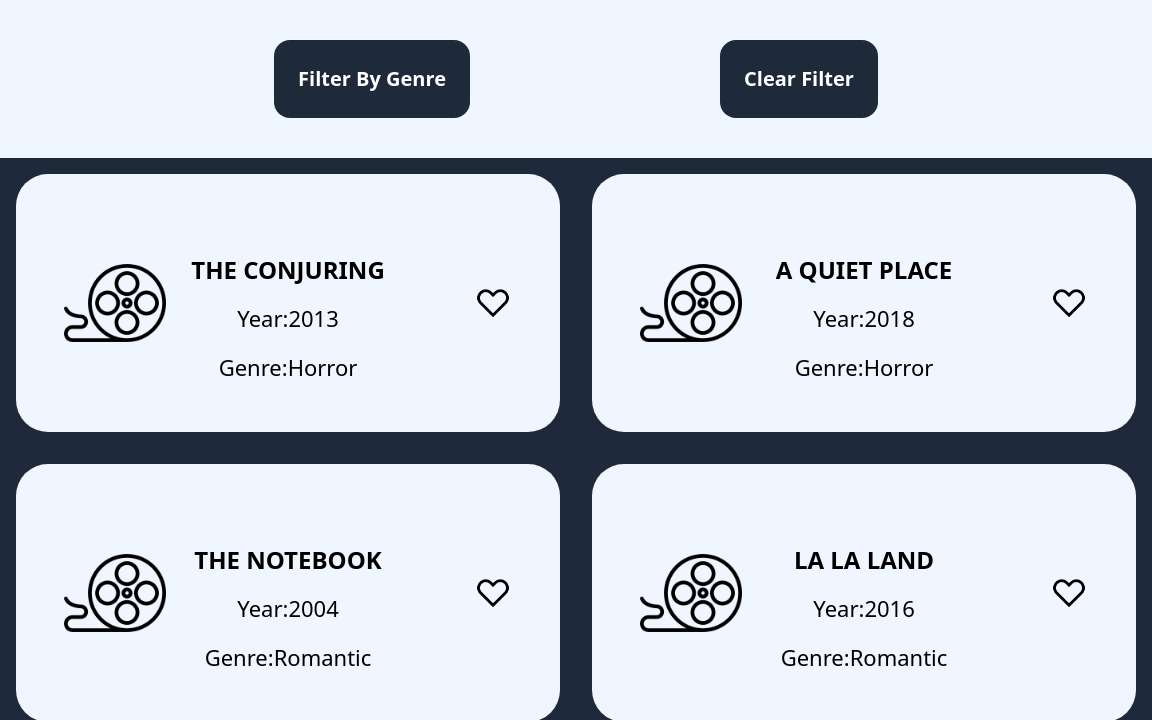
Scenario: Test the back button functionality when particular genre is selected
Expected: the button "Clear Filter" is shown, [720,40,878,118]
Click the button "Filter By Genre".
click(372, 79)  # box [274,40,470,118]
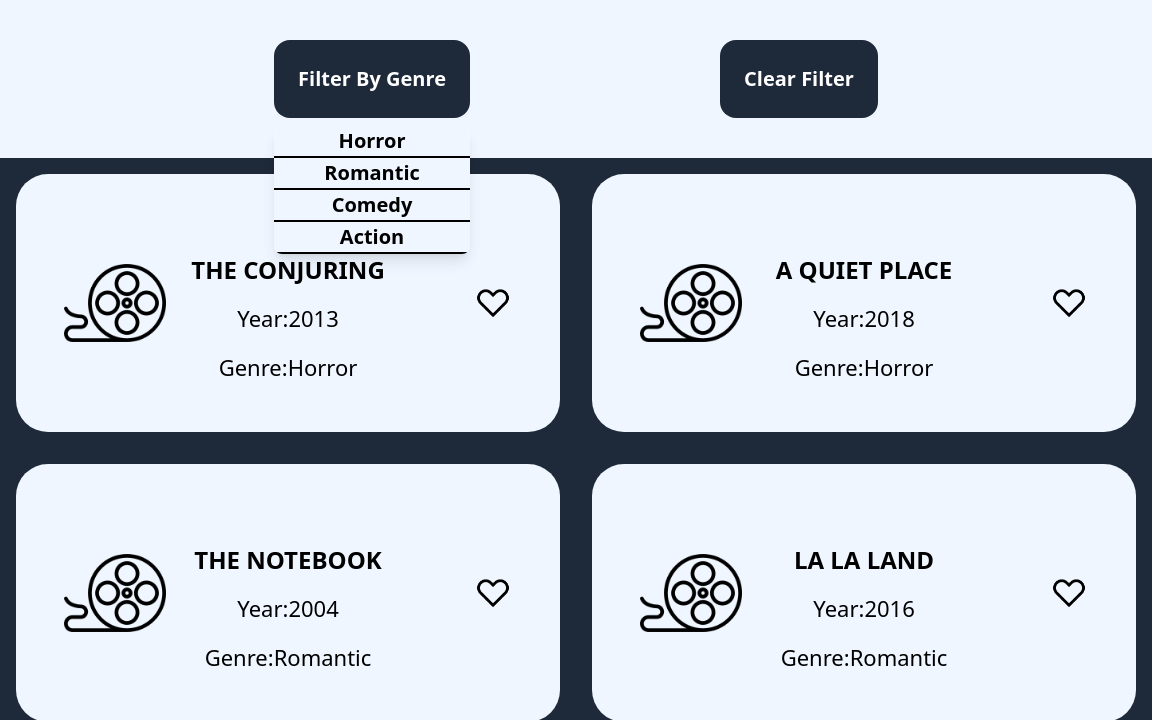
Expected: the number of elements with test id "genre-options" is 4
Expected: the element with test id "genre-options" reads "Horror", [339,127,406,154]
Click the element with test id "genre-options" showing "Horror".
click(372, 142)  # box [274,126,470,158]
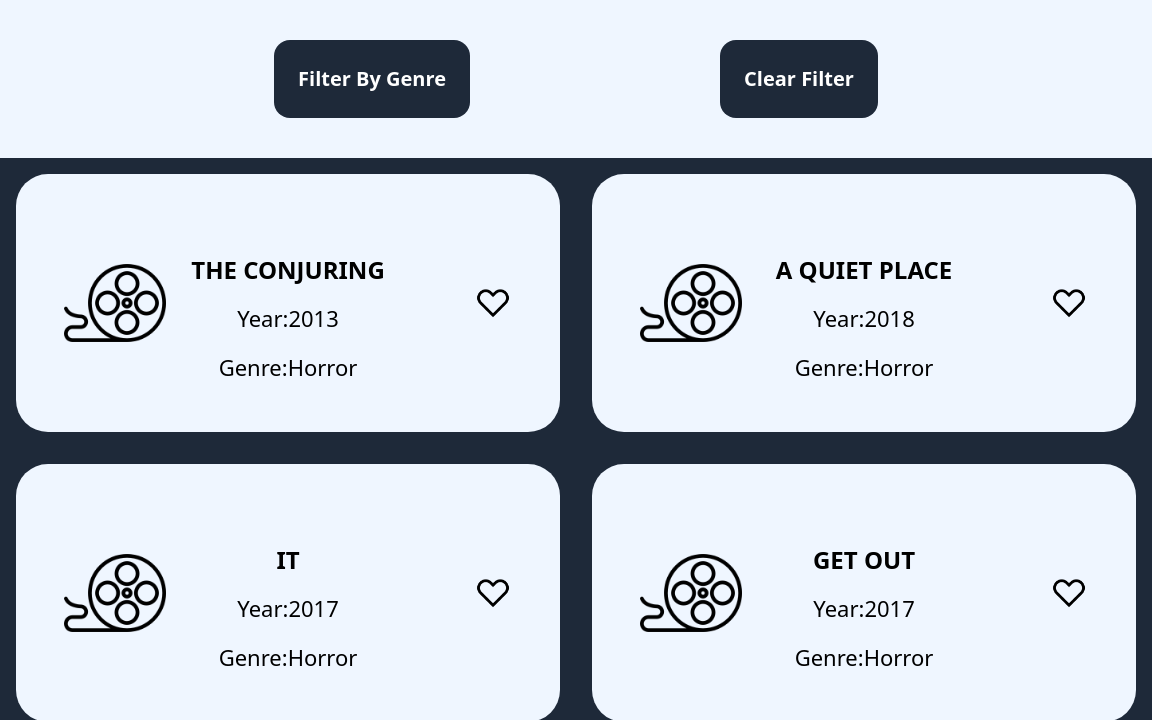
Expected: the number of elements with test id "movie" is 5
Expected: no elements with test id "genre-options" are shown
Click the button "Clear Filter".
click(799, 79)  # box [720,40,878,118]
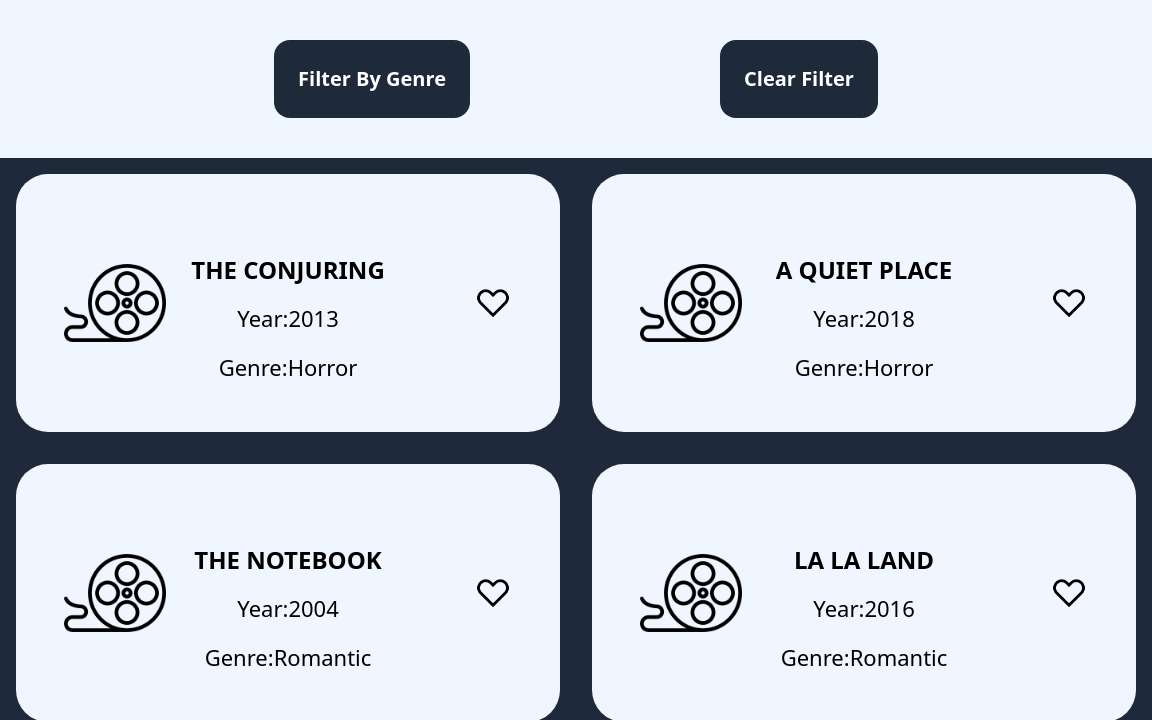
Expected: the number of elements with test id "movie" is 18
